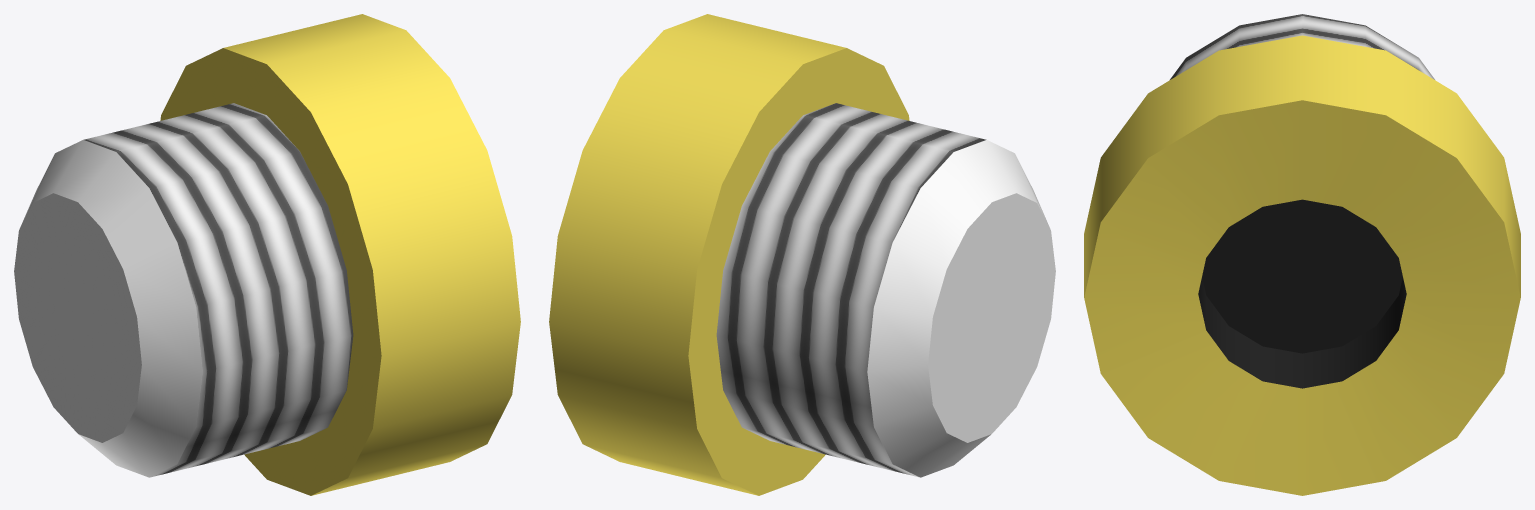
Rendered from Fuse.fbx.
The picture shows the model from 3 angles, left to right: view 1: azimuth 30°, elevation 25°; view 2: azimuth 150°, elevation 25°; view 3: azimuth 270°, elevation 25°; orthographic projection. The views are drawn at different scales.
Parts seen in each view (by area): view 1: Fuse; view 2: Fuse; view 3: Fuse.
Part boxes in pixels (x1,y1,x2,y2): Fuse: [14, 14, 520, 495]; Fuse: [549, 14, 1055, 495]; Fuse: [1084, 14, 1520, 495].
Size of the model in its own units: 0.1654 by 0.2 by 0.2.
